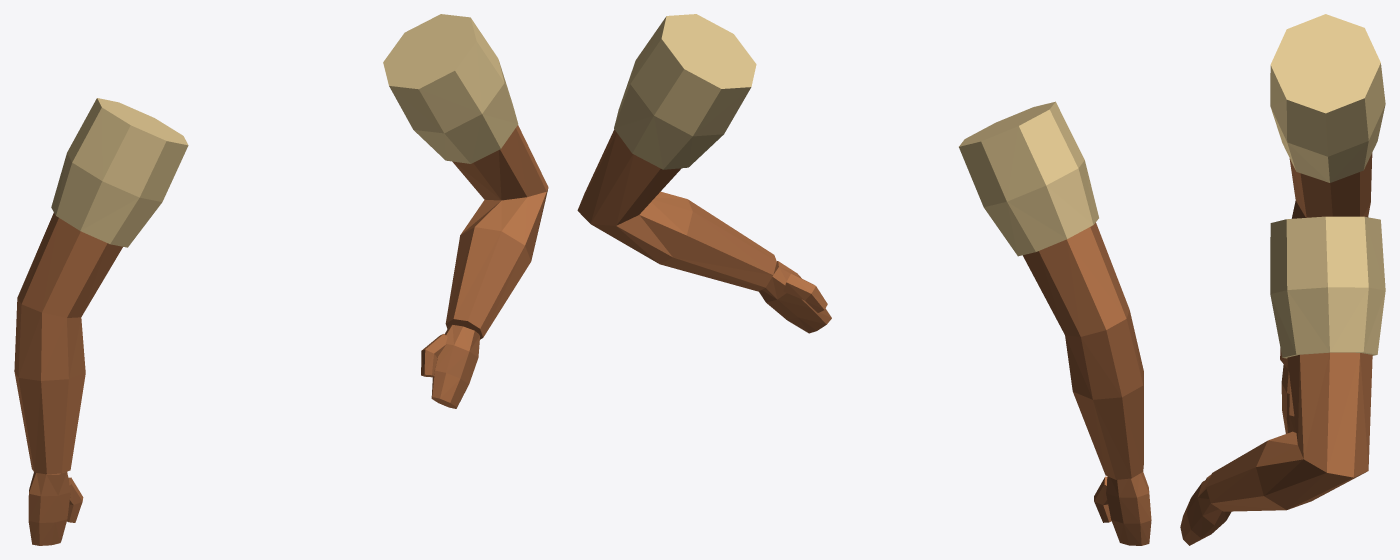
The model's file is EP_Arms_FieldShirt.fbx.
3 views of the same model, side by side, from view 1: azimuth 30°, elevation 25°; view 2: azimuth 150°, elevation 25°; view 3: azimuth 270°, elevation 25° (orthographic). The views are drawn at different scales.
Parts seen in each view (by area): view 1: EP_Arms_FieldShirt; view 2: EP_Arms_FieldShirt; view 3: EP_Arms_FieldShirt.
Boxes of the visible parts, left/top/right/bottom form: EP_Arms_FieldShirt: left=14, top=14, right=548, bottom=545; EP_Arms_FieldShirt: left=577, top=14, right=1151, bottom=545; EP_Arms_FieldShirt: left=1180, top=14, right=1385, bottom=545.
Bounding box in the file's own units: 0.8296 × 0.6096 × 0.2455.
2 materials, 2 textured.
